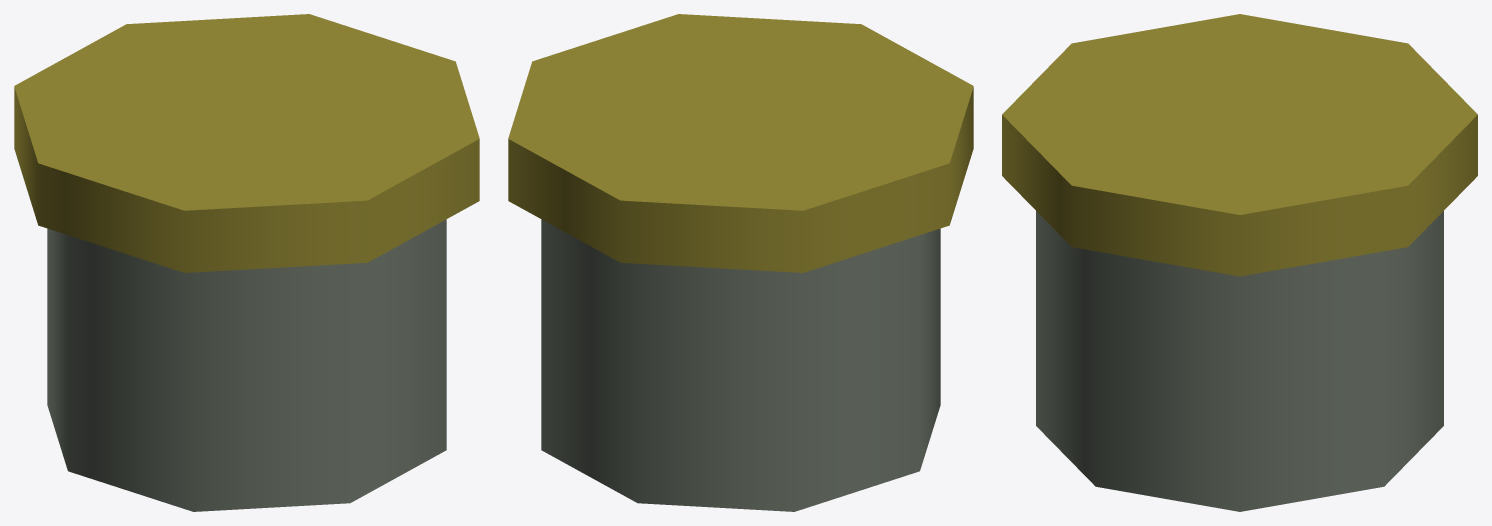
Rendered from Jar_Kitchen_01.fbx.
3 renders of one model, left to right at view 1: azimuth 30°, elevation 25°; view 2: azimuth 150°, elevation 25°; view 3: azimuth 270°, elevation 25°, orthographic.
Visible parts, largest first — view 1: Jar_Lid_01, Jar_01; view 2: Jar_Lid_01, Jar_01; view 3: Jar_Lid_01, Jar_01.
Part boxes in pixels (box(x1,y1,x2,y2)): Jar_Lid_01: box(14, 14, 479, 272); Jar_01: box(47, 219, 446, 511); Jar_Lid_01: box(508, 14, 973, 272); Jar_01: box(541, 219, 940, 511); Jar_Lid_01: box(1002, 14, 1477, 276); Jar_01: box(1036, 211, 1443, 511).
Bounding box in the file's own units: 0.8545 × 0.6165 × 0.8545.
